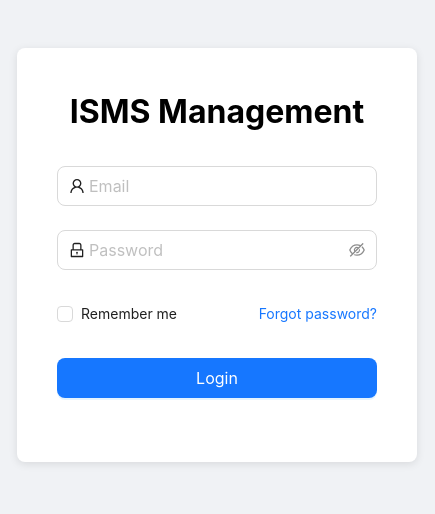
Test: LoginPage › Error Handling › should display error message on login failure
Type "test@example.com" into the field labelled "Email" at [227, 186], box [89, 174, 365, 198]
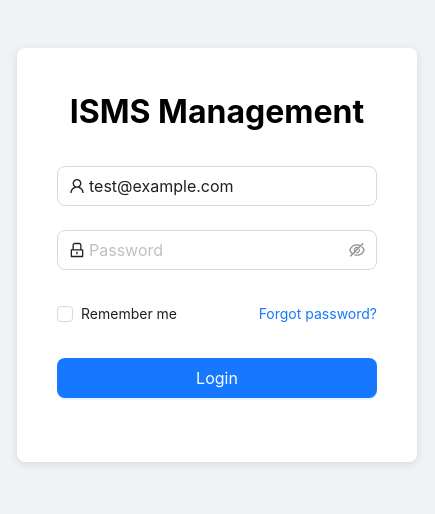
Type "wrongpassword" into the password field labelled "Password" at [217, 250], box [89, 238, 345, 262]
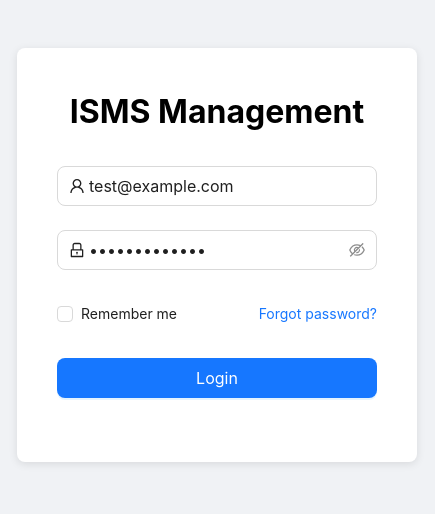
Click the button "Login" at [217, 378], box [57, 358, 377, 398]
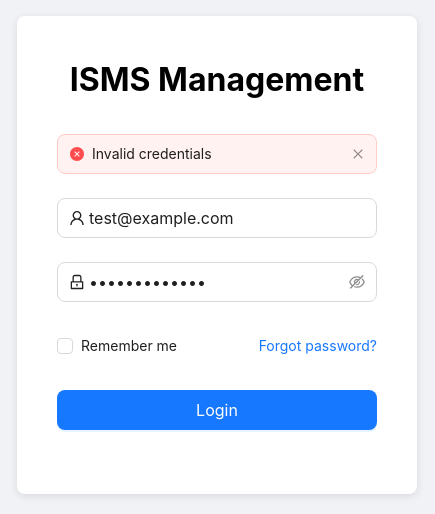
Now the text "Invalid credentials" is shown, box [92, 145, 212, 162]
